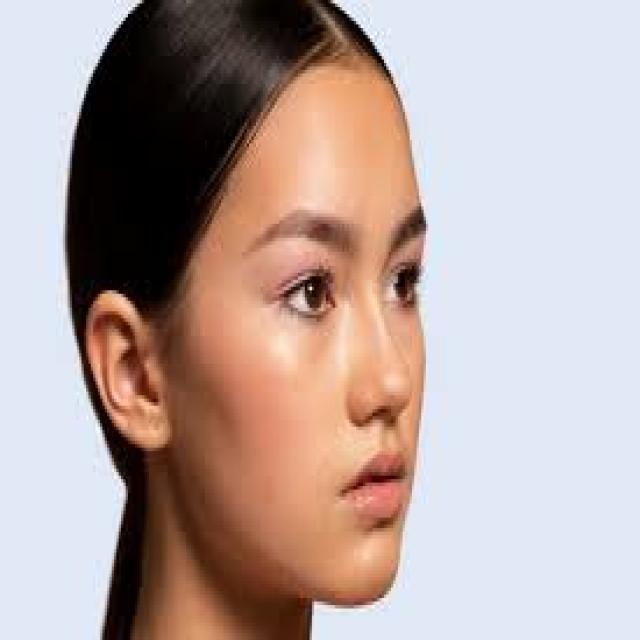normal skin: (290, 138, 408, 606)
